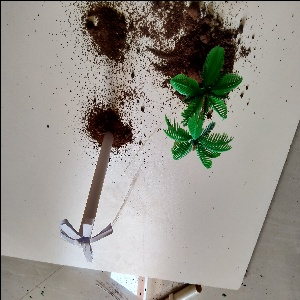plant: (161, 33, 243, 165)
weed: (61, 133, 123, 263)
